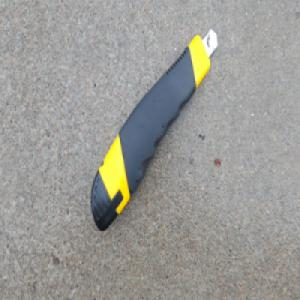Cutter: (90, 27, 219, 233)
